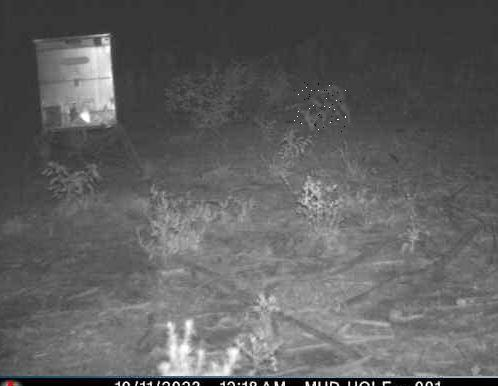Hog: (294, 82, 352, 134)
